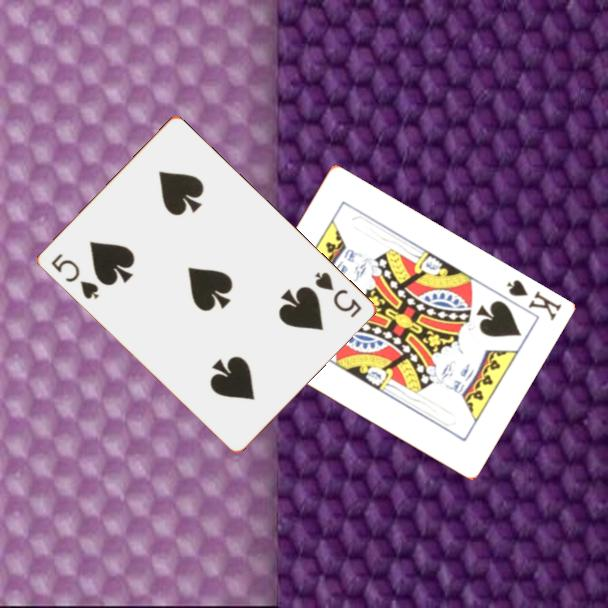s05: (311, 268, 364, 321), (47, 250, 101, 302)
s13: (502, 276, 564, 324)
